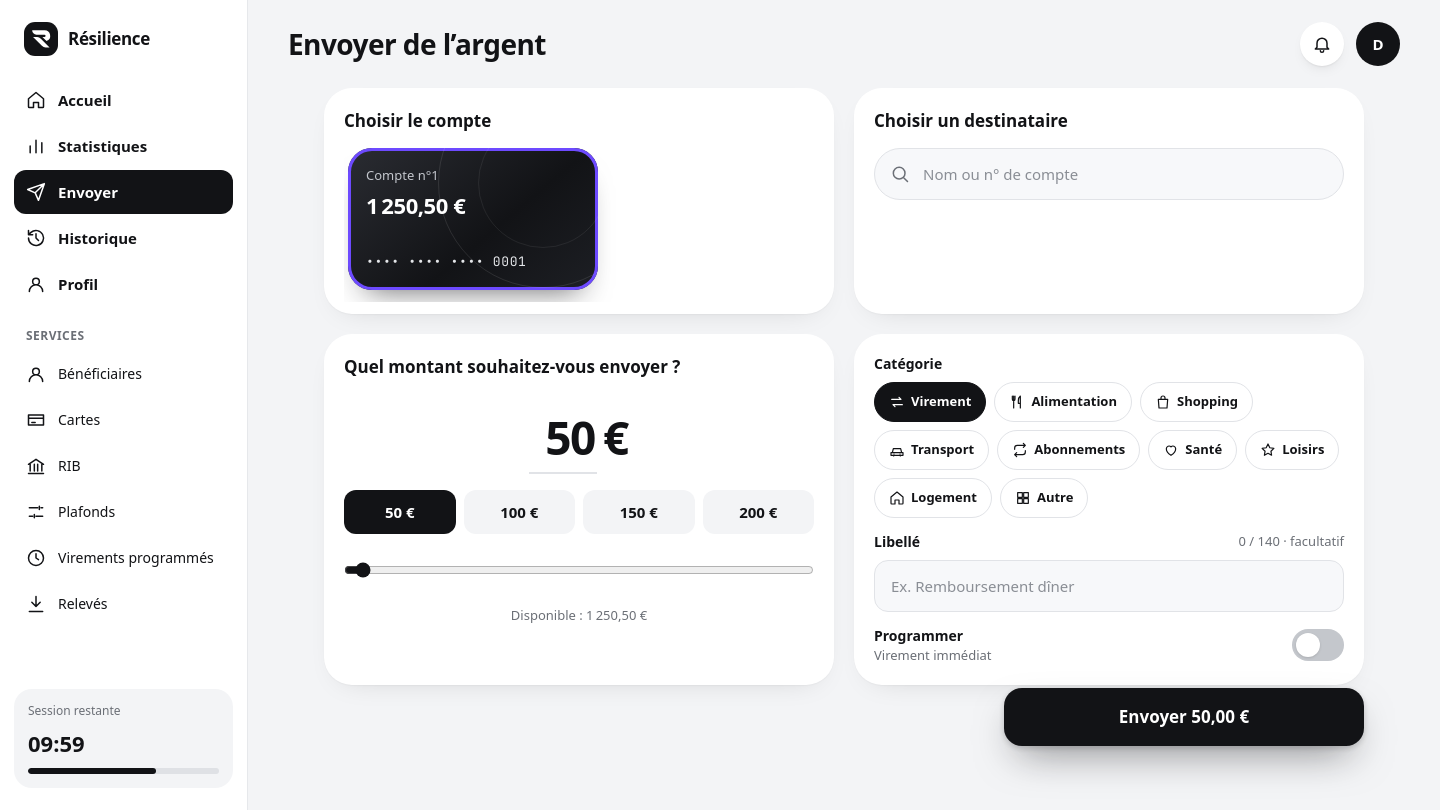
it: Front - envoi (desktop) › montant supérieur au solde : bloqué côté client
Step 1. Type "77" into the search field named "Rechercher un destinataire par nom ou numéro de compte" → (1109, 174), box [874, 148, 1344, 200]
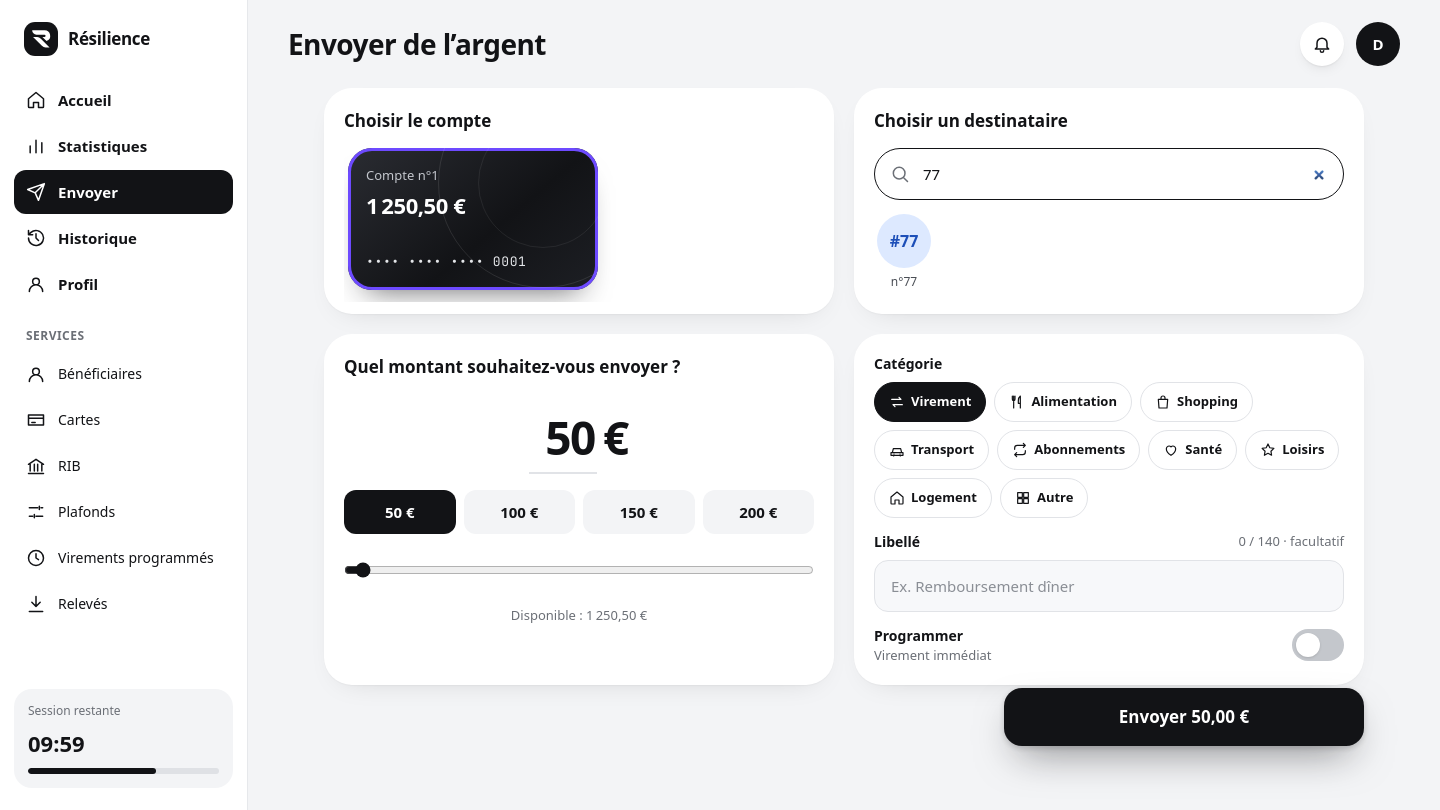
Step 2. Click the button named "Compte n°77" → (904, 252), box [874, 214, 934, 290]
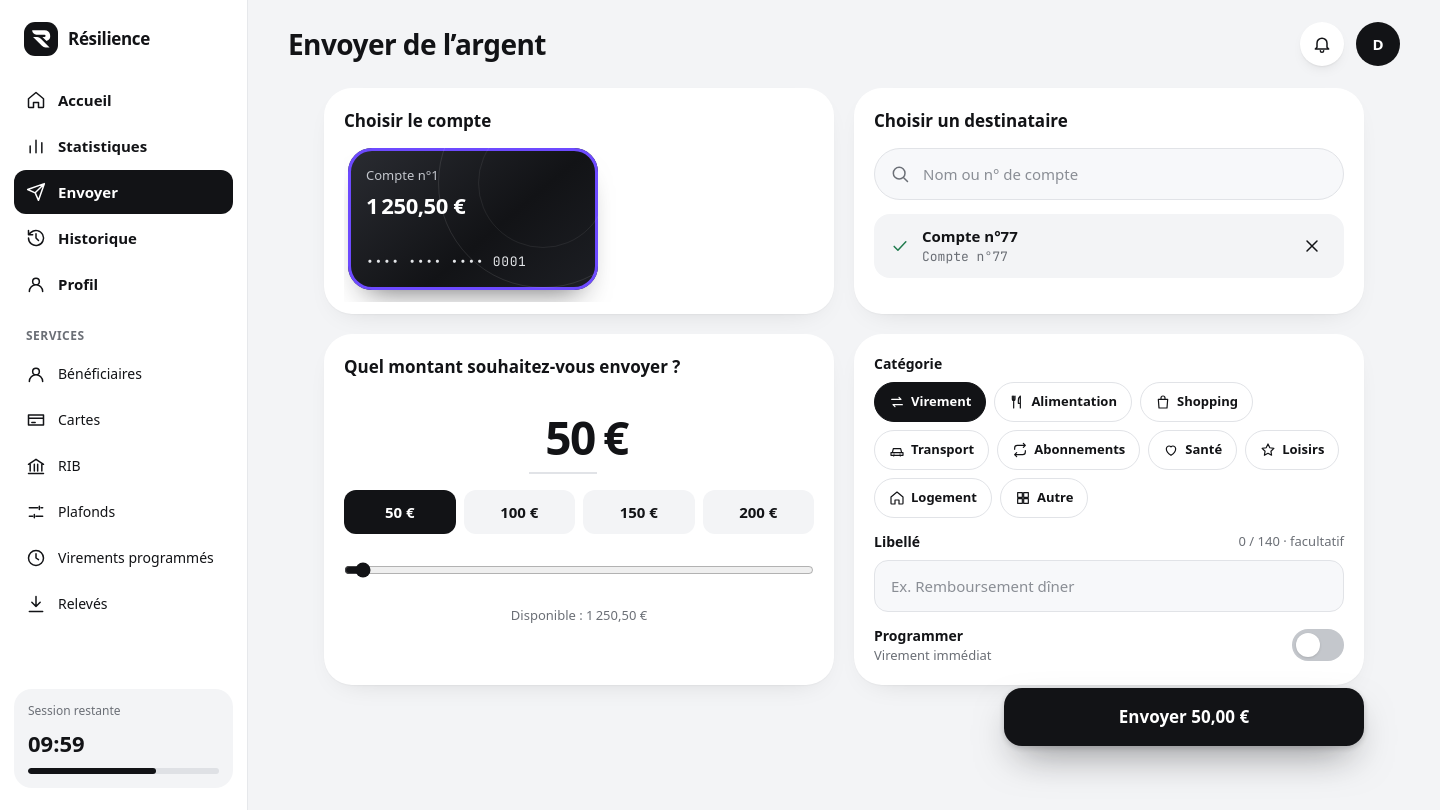
Step 3. Clear the field named "Montant en euros" → (563, 438), box [529, 403, 597, 474]
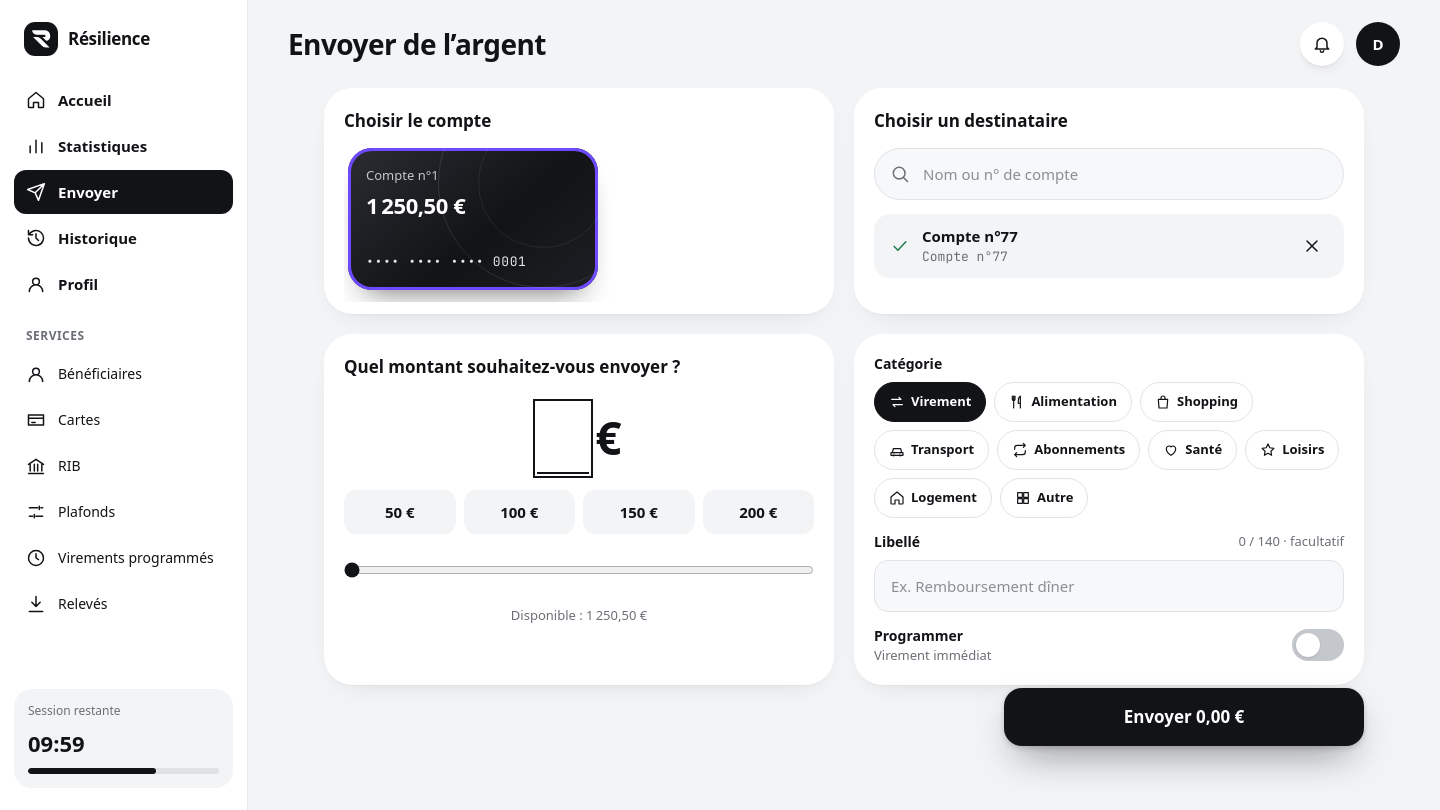
Step 4. Type "5000" into the field named "Montant en euros" → (563, 438), box [536, 403, 589, 474]
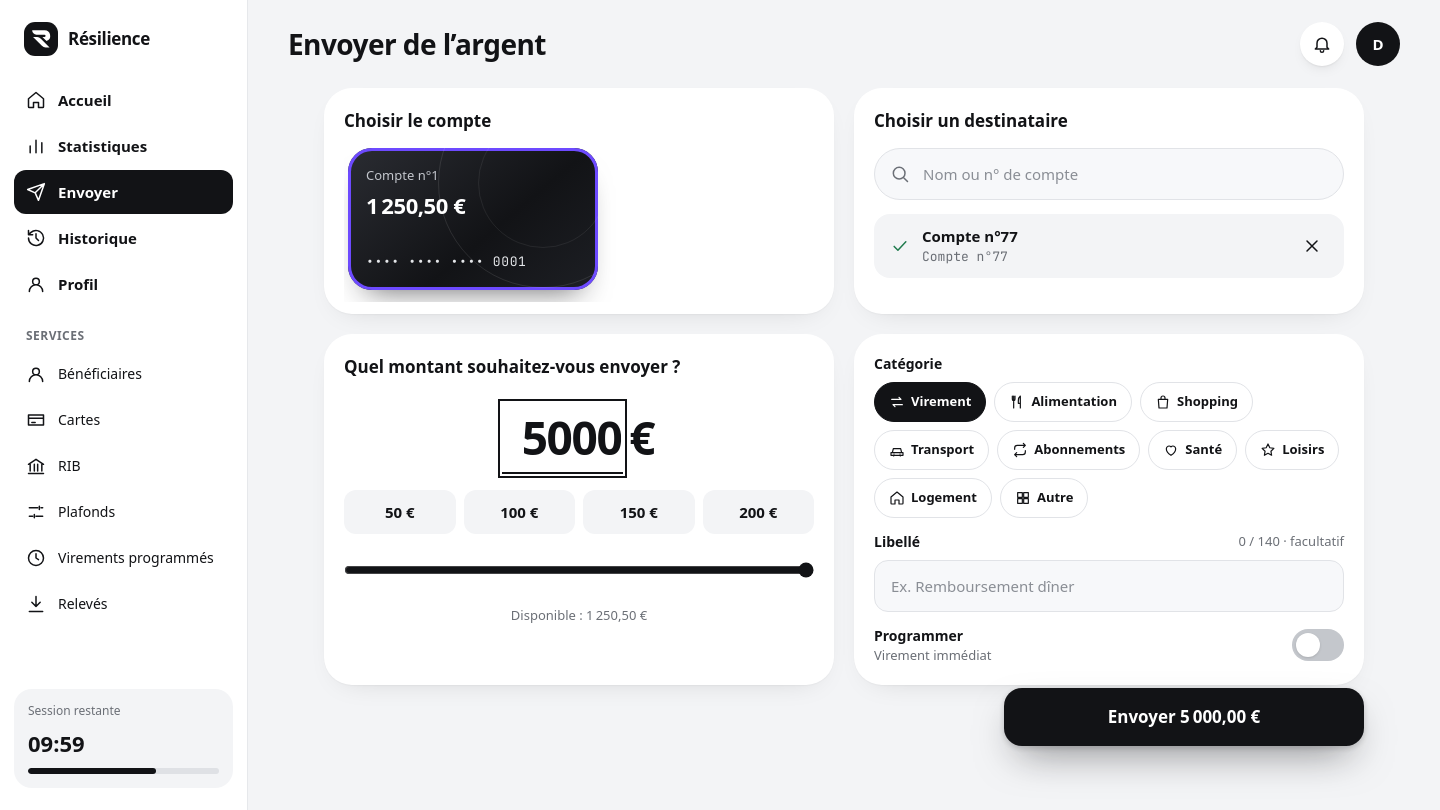
Step 5. Click the button "Envoyer 5 000,00 €" → (1184, 717), box [1004, 688, 1364, 746]
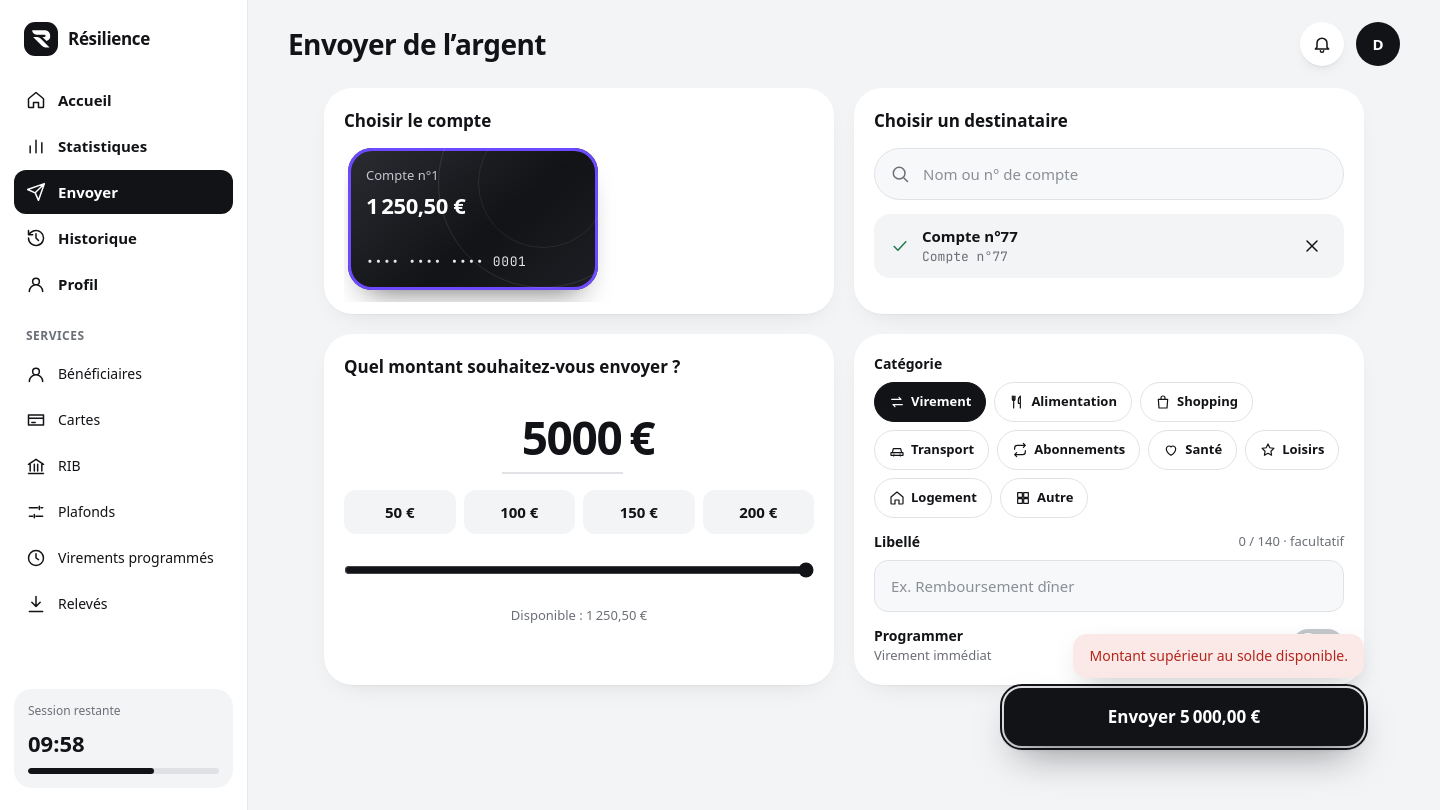
Expected: the message reads "Montant supérieur au solde disponible.", [1090, 646, 1348, 665]
